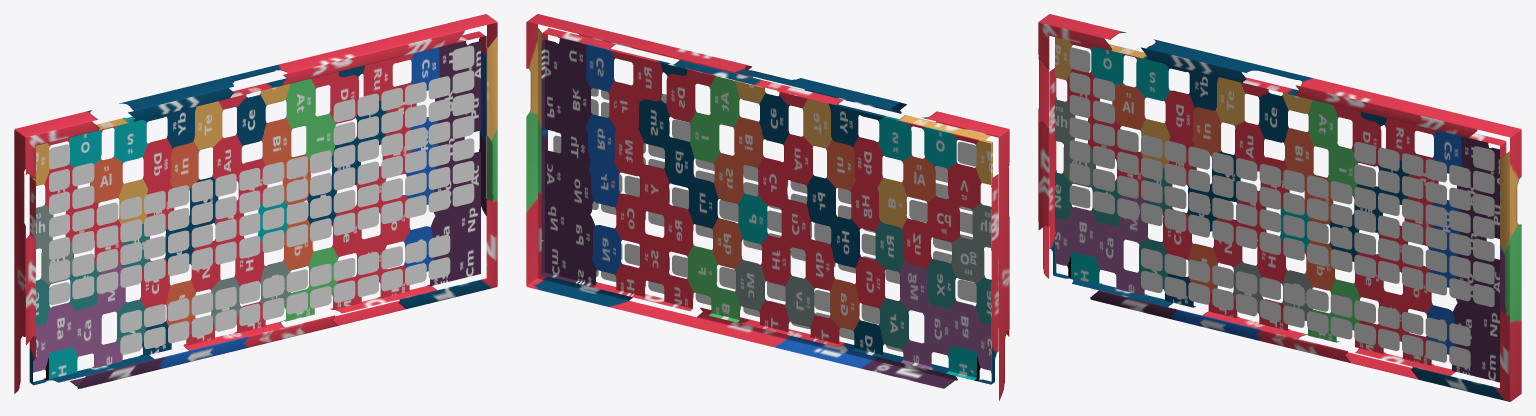
Rendered from Periodic table.fbx.
The picture shows the model from 3 angles, left to right: view 1: azimuth 30°, elevation 25°; view 2: azimuth 150°, elevation 25°; view 3: azimuth 330°, elevation 25°; orthographic projection.
Visible parts, largest first — view 1: Board, Elements; view 2: Board, Elements; view 3: Board, Elements.
Part boxes in pixels (left/top/right/bottom): Board: left=14, top=14, right=497, bottom=393; Elements: left=49, top=45, right=474, bottom=354; Board: left=526, top=14, right=1009, bottom=400; Elements: left=553, top=43, right=976, bottom=351; Board: left=1038, top=14, right=1521, bottom=401; Elements: left=1069, top=47, right=1494, bottom=368.
Size of the model in its own units: 297 by 160 by 11.93.
1 material, 1 textured.
